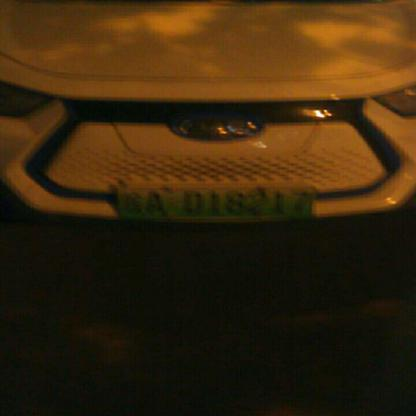lp: (117, 186, 313, 218)
